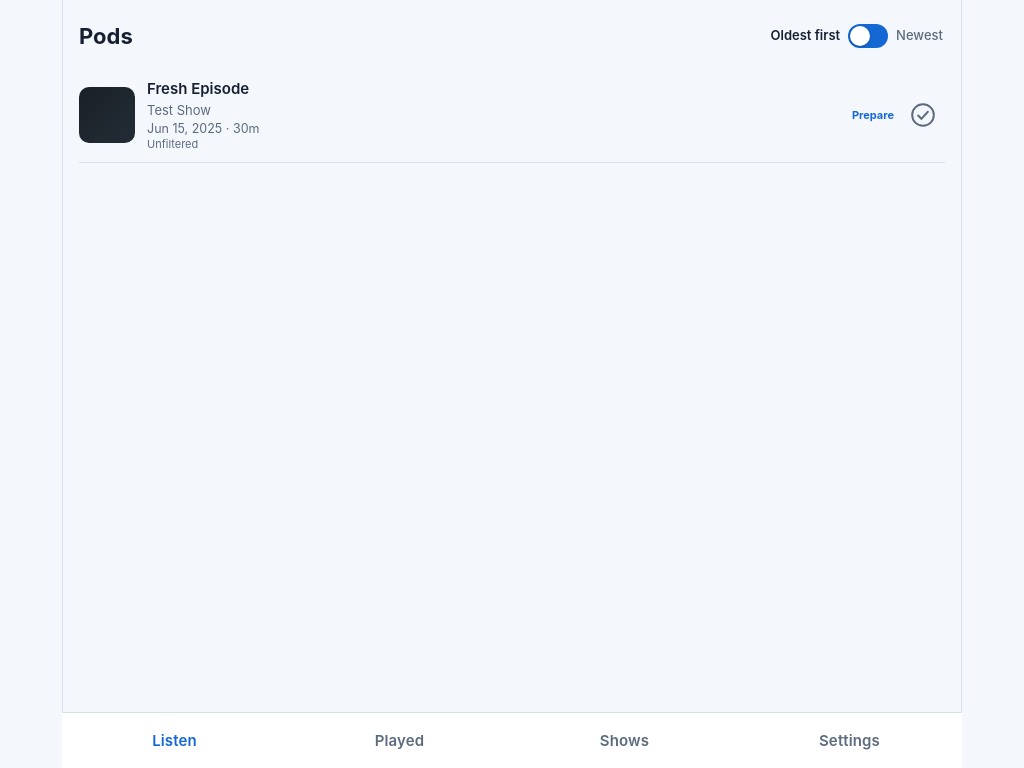
it: App › switches primary tabs with horizontal swipes
Expected: the text "Fresh Episode" is shown, [147,79,249,98]
Press the mouse on the button "Fresh Episode" at (107, 115), box [79,68,845,162]
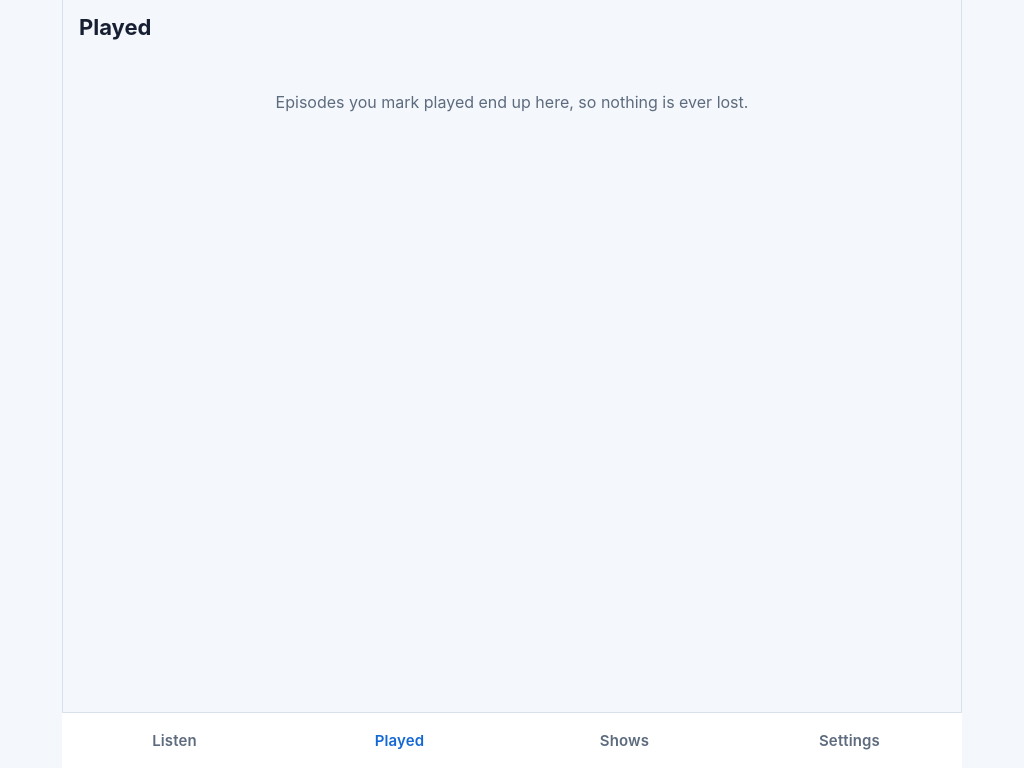
Expected: the heading "Played" is shown, [79,14,151,40]
Press the mouse on the element that starts with "Played" at (512, 25), box [79,0,945,112]
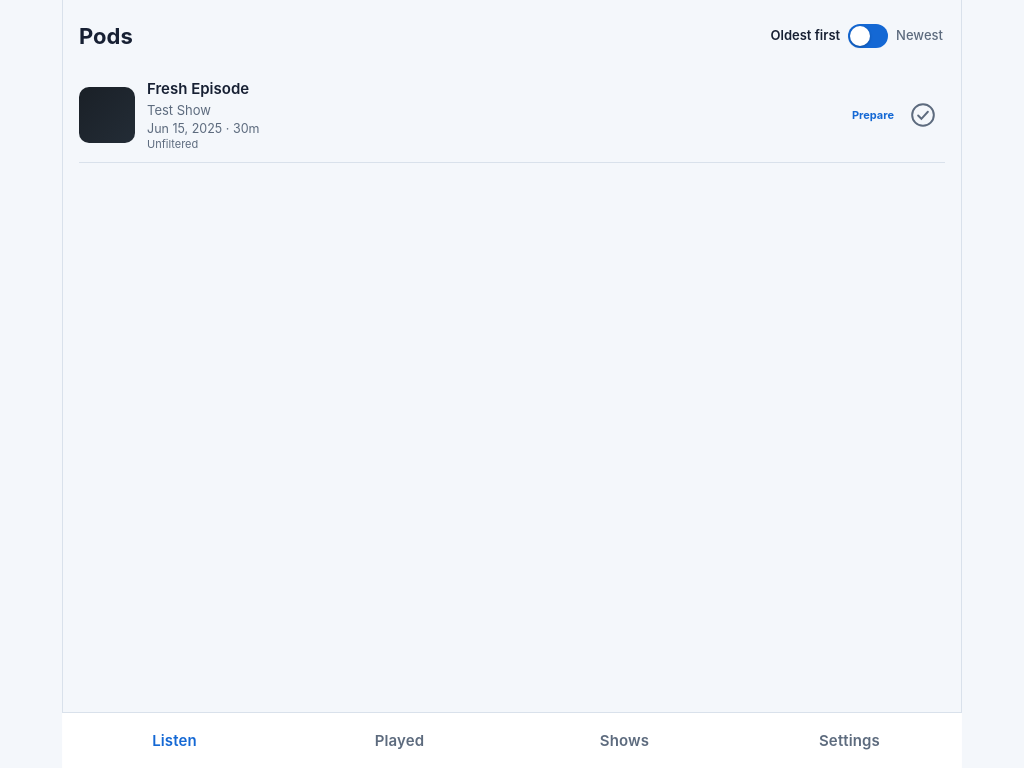
Expected: the text "Fresh Episode" is shown, [147,79,249,98]
